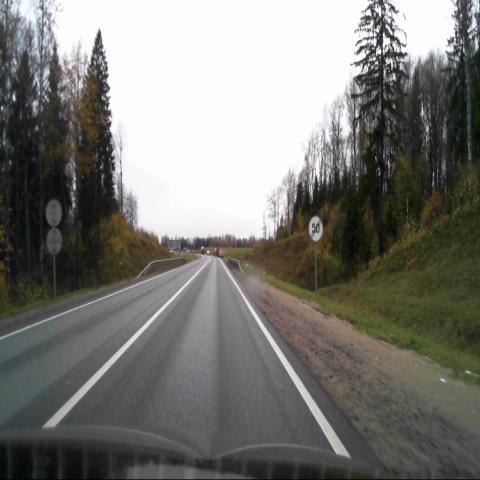3_31: (308, 216, 323, 241)
